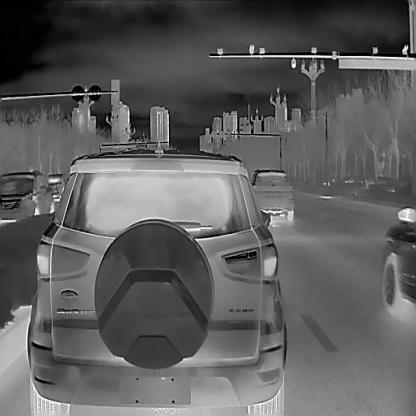car: (25, 147, 288, 415), (380, 202, 416, 320), (0, 169, 53, 221), (249, 168, 295, 227), (43, 173, 69, 201)
